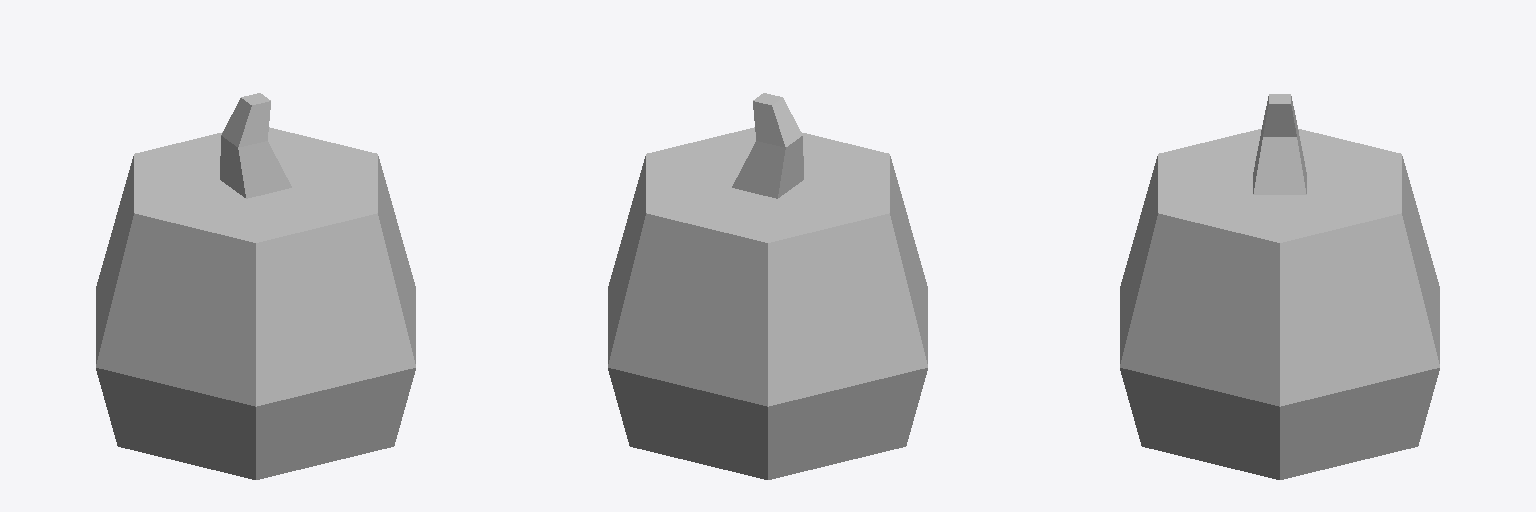
Rendered from pumpkinTall.obj.
The picture shows the model from 3 angles: view 1: azimuth 30°, elevation 25°; view 2: azimuth 150°, elevation 25°; view 3: azimuth 270°, elevation 25°; orthographic projection.
Parts seen in each view (by area): view 1: pumpkinTall; view 2: pumpkinTall; view 3: pumpkinTall.
Boxes of the visible parts, x1,y1,x2,y2 form: pumpkinTall: [96, 93, 415, 479]; pumpkinTall: [608, 93, 927, 479]; pumpkinTall: [1120, 94, 1439, 479].
Bounding box in the file's own units: 0.2784 × 0.26 × 0.2411.